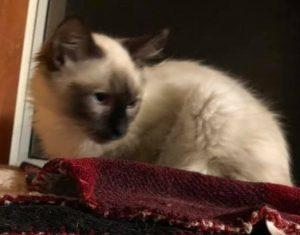siamese: (29, 5, 176, 162)
